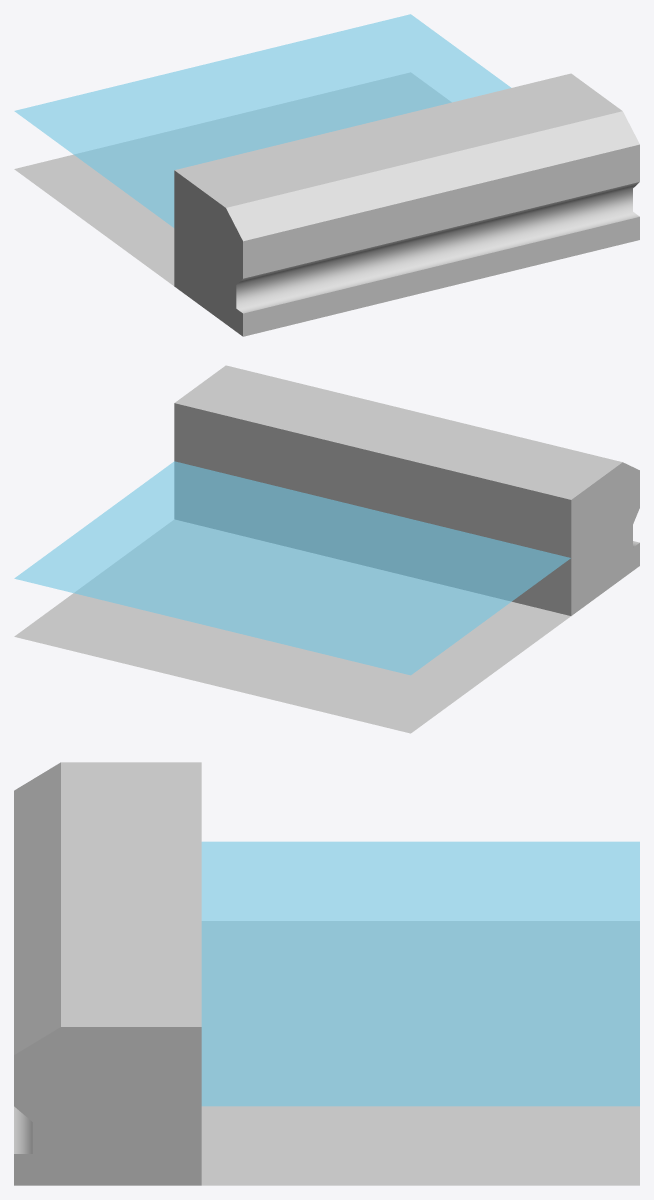
File: fountain-edge.glb
The picture shows the model from 3 angles, top to bottom: view 1: azimuth 30°, elevation 25°; view 2: azimuth 150°, elevation 25°; view 3: azimuth 270°, elevation 25°; orthographic projection. The views are drawn at different scales.
Visible parts, largest first — view 1: fountain-edge, (%ignore); view 2: fountain-edge, (%ignore); view 3: fountain-edge, (%ignore).
Boxes of the visible parts, x1,y1,x2,y2 form: fountain-edge: (14,72,639,336); (%ignore): (14,14,510,227); fountain-edge: (14,365,639,733); (%ignore): (14,461,570,675); fountain-edge: (14,762,639,1185); (%ignore): (201,841,639,1106).
Size of the model in its own units: 1 by 0.2799 by 1.
